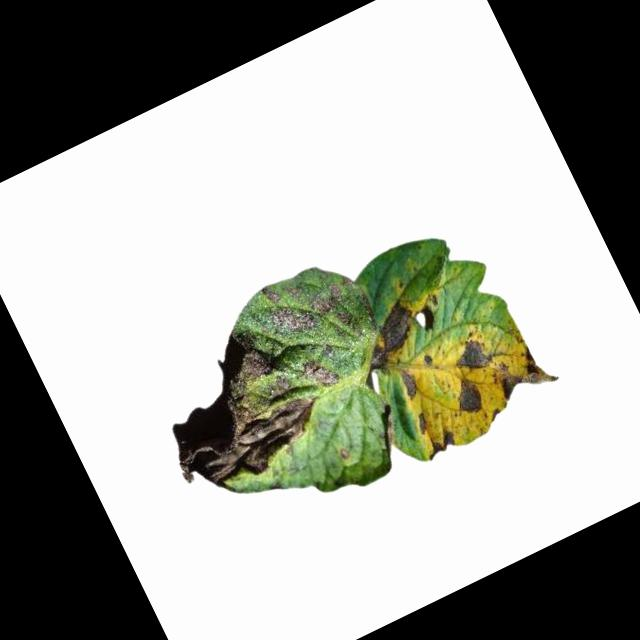Early_blight: (133, 313, 334, 506), (255, 261, 345, 344), (350, 296, 430, 376), (487, 341, 560, 408), (451, 331, 500, 379), (298, 351, 344, 398), (449, 374, 488, 420), (421, 427, 461, 462), (395, 366, 427, 403), (414, 303, 445, 337), (413, 411, 433, 437), (421, 351, 436, 367)
